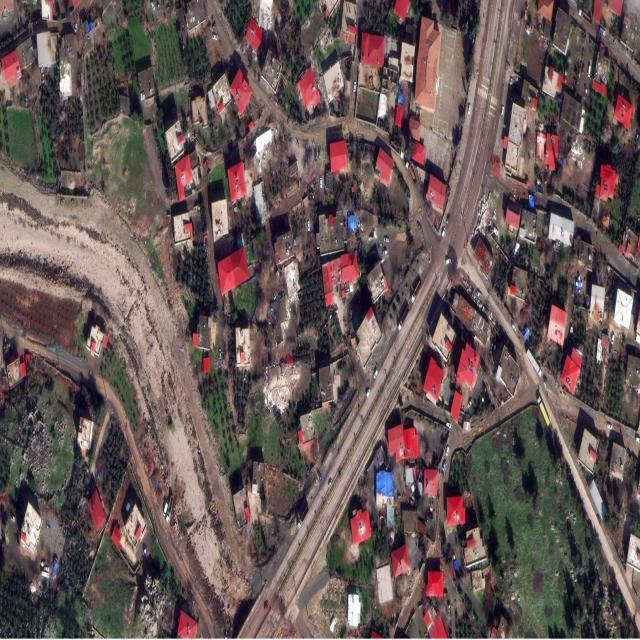Rubble: (264, 364, 300, 411), (286, 292, 300, 315)
